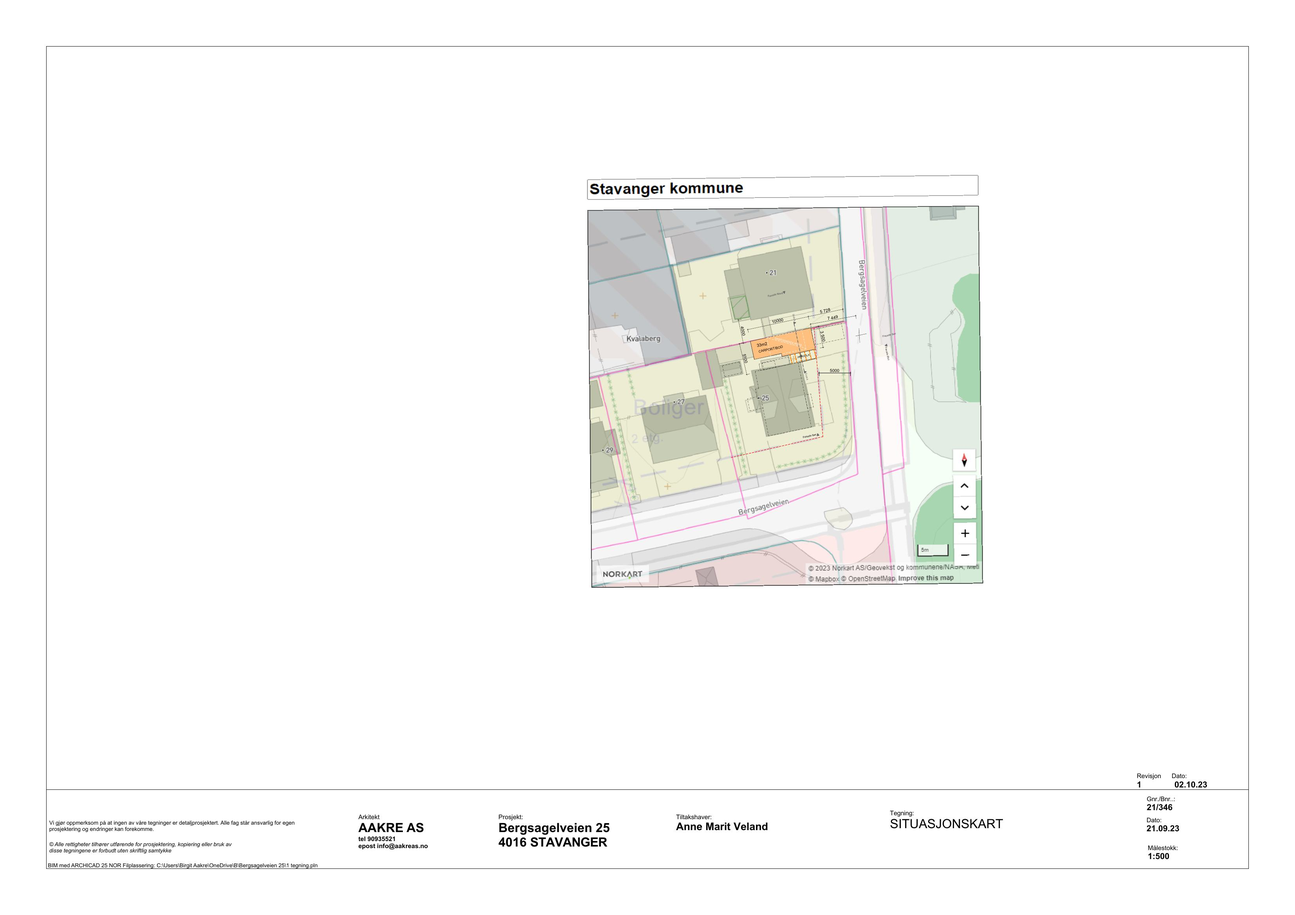situasjonskart: (588, 213, 986, 583)
